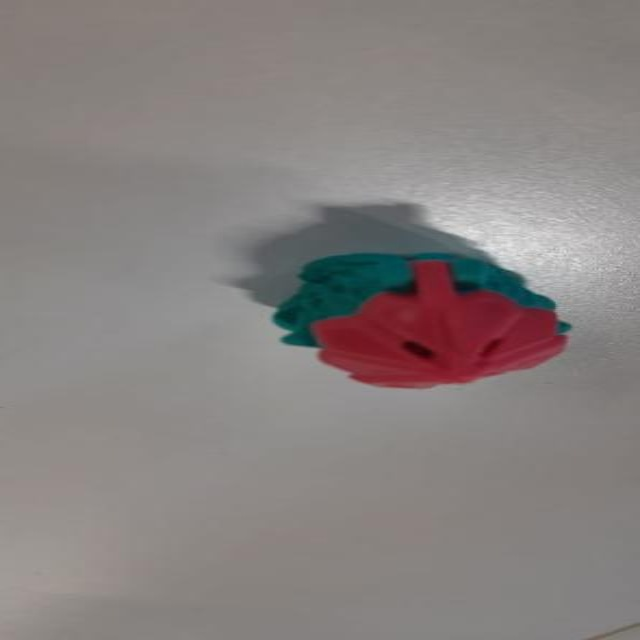House: (273, 246, 564, 398)
